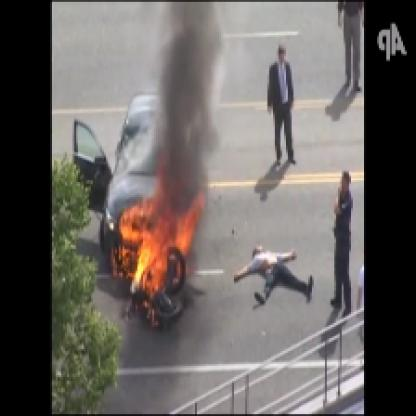Fire: (117, 160, 212, 308)
Smoke: (148, 2, 223, 219)
